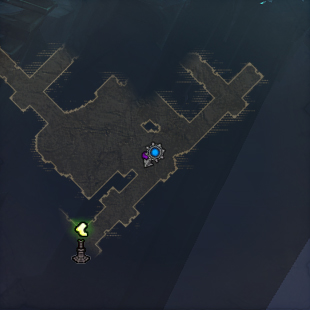SpeedPylon: (72, 220, 93, 264)
